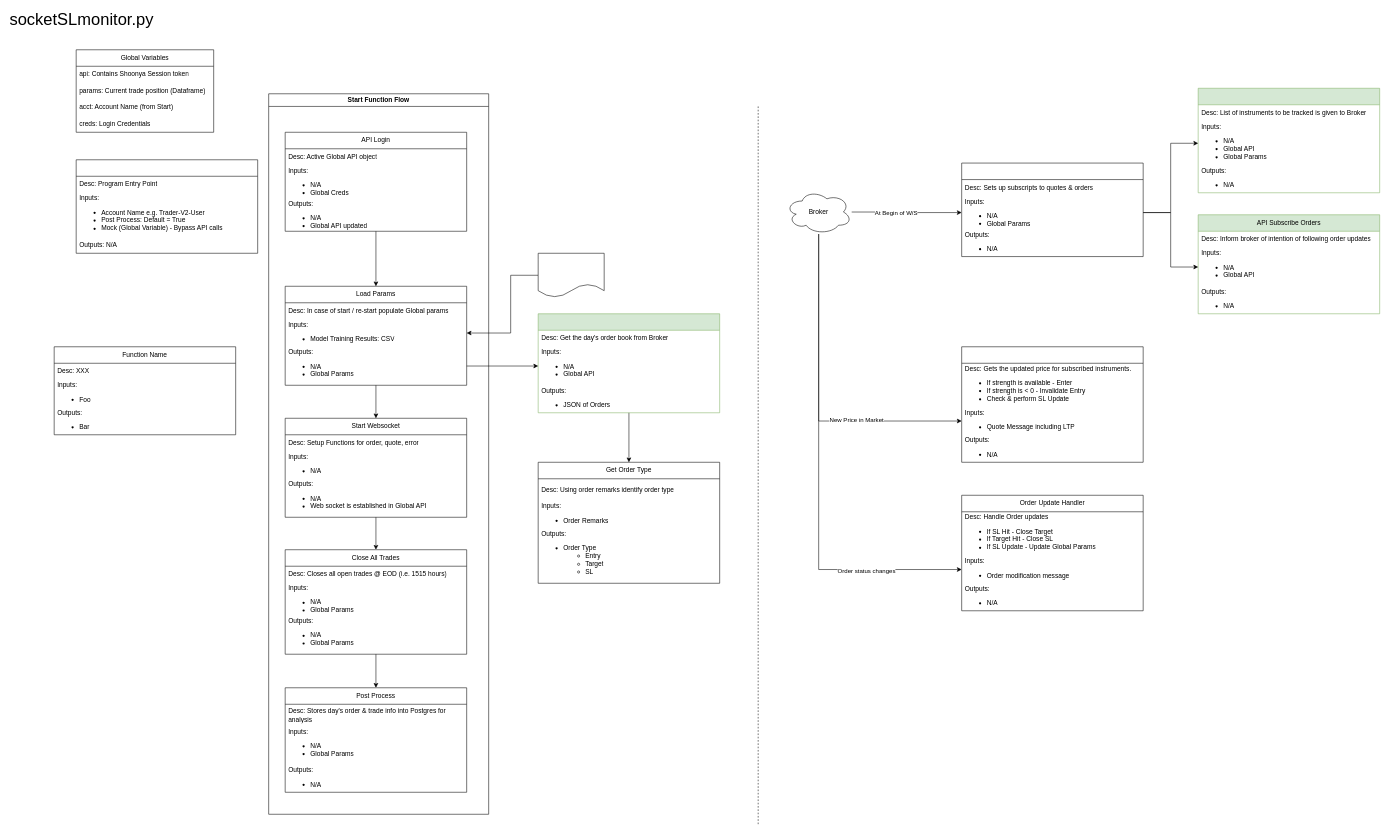
The diagram is 1389 pixels wide and 834 high, and some of its shapes have lost their labels. Here are the shapes that lost their labels. From the top down, the box of each, then its label:
(1198, 88, 1380, 193): API Subscribe
(76, 159, 258, 253): Start
(961, 163, 1143, 257): Start Web Socket Handler
(538, 253, 604, 297): Model Training Results
(538, 313, 720, 413): API Get Order Book
(961, 346, 1143, 462): Quote Handler
